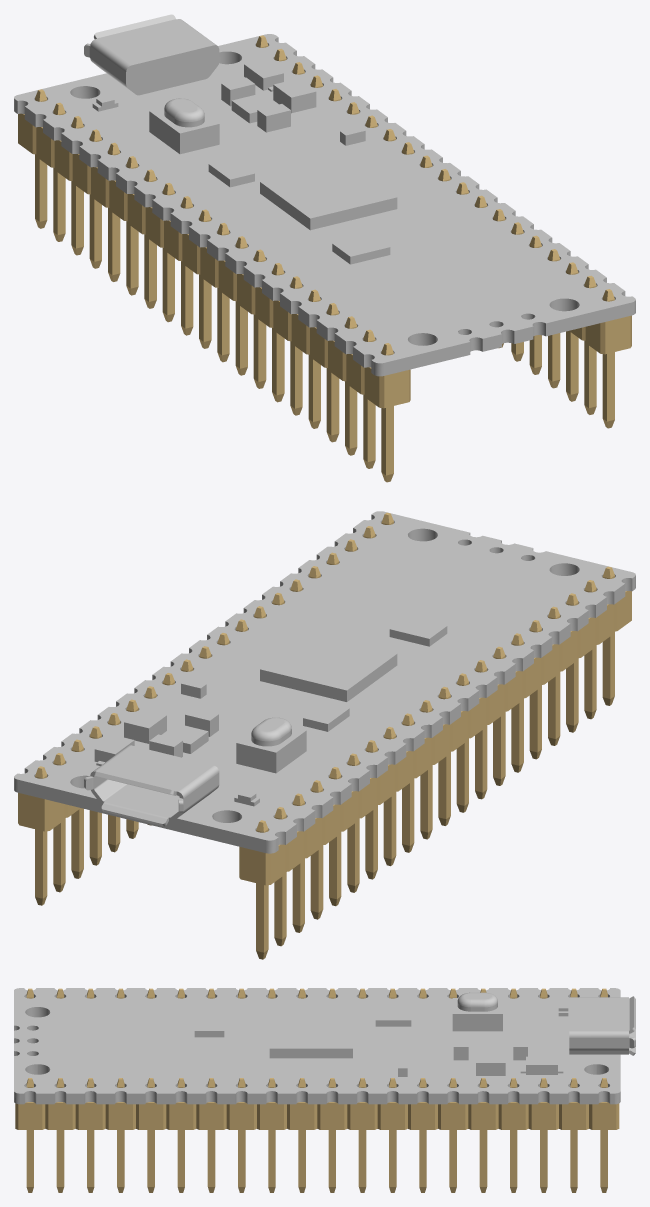
The model's file is kc-raspberrypi_pico_addedheaders_h2.54mm.glb.
The picture shows the model from 3 angles, top to bottom: view 1: azimuth 30°, elevation 25°; view 2: azimuth 150°, elevation 25°; view 3: azimuth 270°, elevation 25°; orthographic projection. The views are drawn at different scales.
Parts seen in each view (by area): view 1: 0.5833333333333334_0.5833333333333334_0.5833333333333334_0.8, 0.75_0.5_0.25_0.9; view 2: 0.5833333333333334_0.5833333333333334_0.5833333333333334_0.8, 0.75_0.5_0.25_0.9; view 3: 0.5833333333333334_0.5833333333333334_0.5833333333333334_0.8, 0.75_0.5_0.25_0.9.
Part boxes in pixels (left/top/right/bottom): 0.5833333333333334_0.5833333333333334_0.5833333333333334_0.8: left=14, top=14, right=635, bottom=376; 0.75_0.5_0.25_0.9: left=18, top=35, right=631, bottom=482; 0.5833333333333334_0.5833333333333334_0.5833333333333334_0.8: left=14, top=511, right=635, bottom=853; 0.75_0.5_0.25_0.9: left=18, top=512, right=631, bottom=959; 0.5833333333333334_0.5833333333333334_0.5833333333333334_0.8: left=14, top=988, right=635, bottom=1104; 0.75_0.5_0.25_0.9: left=15, top=988, right=619, bottom=1192.
Bounding box in the file's own units: 2.1 × 1.26 × 5.23.
